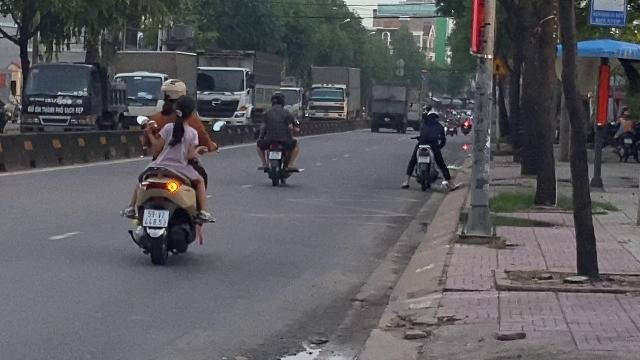helmet: (159, 78, 187, 103)
licenseplate: (144, 209, 168, 226)
motorcyclist: (123, 78, 215, 266)
nohelmet: (173, 94, 197, 124)
